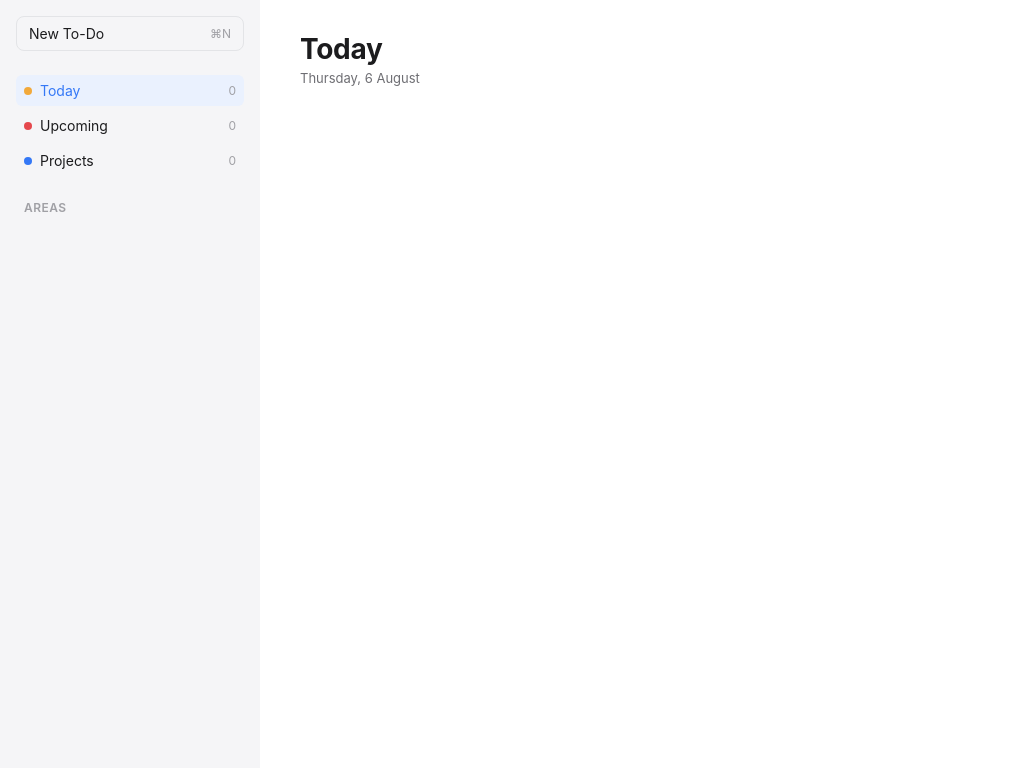
Test case: App › opens Quick Entry from the sidebar New To-Do button
The width and height of the screenshot is (1024, 768).
Check: the heading "Today" is shown, box [300,32,383,66]
Click the button "New To-Do ⌘N" at (130, 34), box [16,16,244,51]
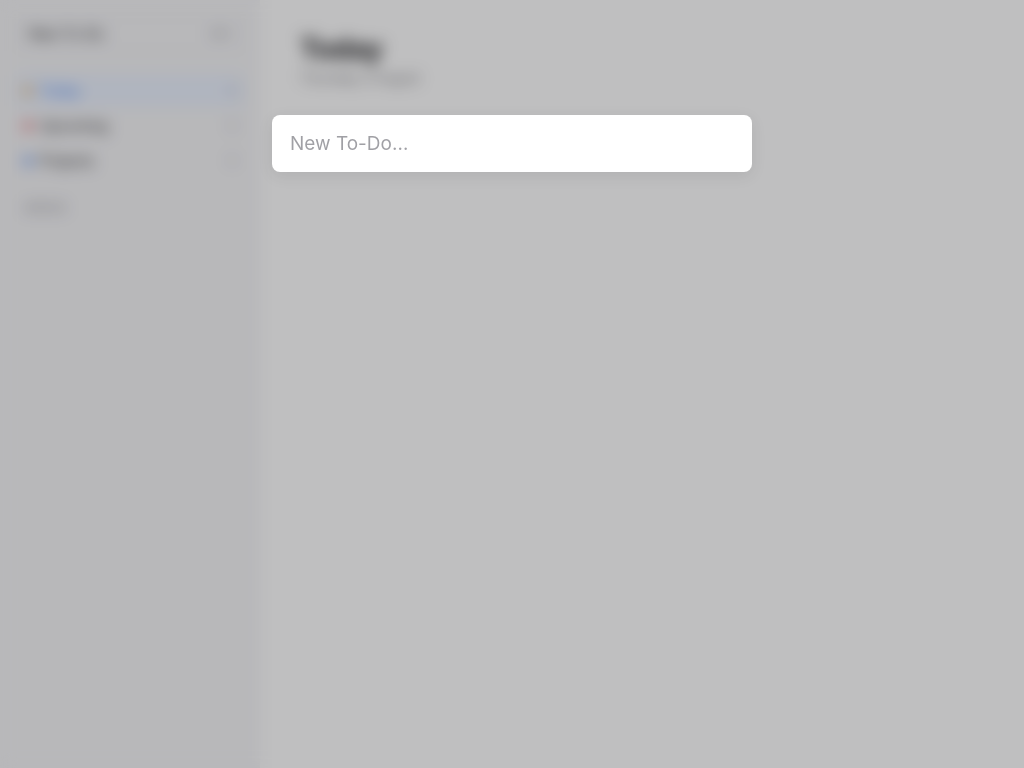
Check: the dialog named "quick entry" is shown, box [272,115,752,172]
